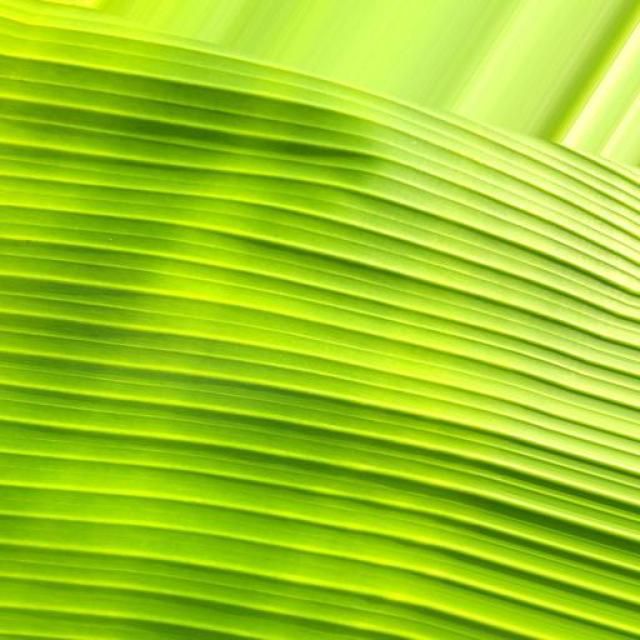Black_leaf_spot: (1, 31, 640, 599)
